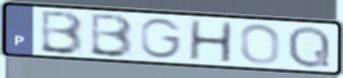B: (38, 9, 87, 57), (88, 12, 136, 60)
G: (139, 17, 186, 60)
H: (186, 19, 235, 65)
O: (238, 22, 283, 66)
Q: (286, 24, 333, 70)
